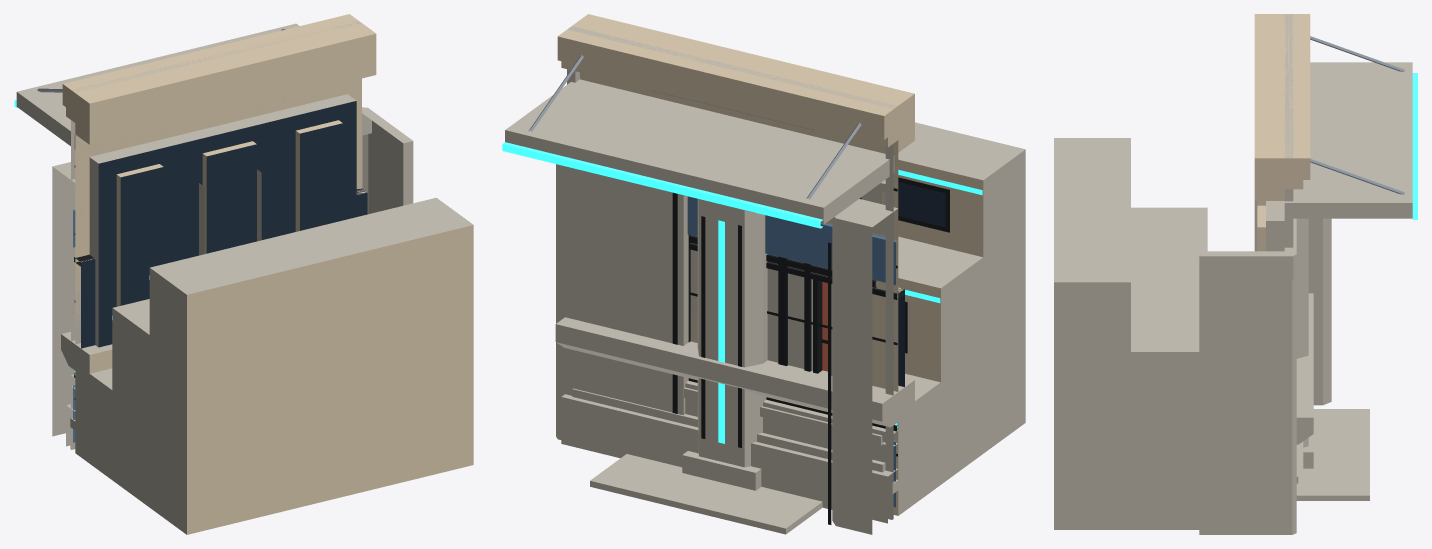
The model's file is kit_office.glb.
3 renders of one model, left to right at view 1: azimuth 30°, elevation 25°; view 2: azimuth 150°, elevation 25°; view 3: azimuth 270°, elevation 25°, orthographic. The views are drawn at different scales.
Visible parts, largest first — view 1: Office_Crown_A, Office_Podium_Base, Office_Bay_Ground_Lobby, Office_Bay_Ground_Window, Office_Corner_In, Office_Corner_Out, Office_Cornice, Office_Bay_Spandrel_Stripe, Office_Bay_Solid, Office_Pilaster; view 2: Office_Bay_Ground_Lobby, Office_Crown_A, Office_Podium_Base, Office_Corner_Out, Office_Pilaster, Office_Corner_In, Office_Cornice, Office_Bay_Spandrel_Stripe, Office_Bay_Ground_Window, Office_Bay_Solid, Office_Bay_Window; view 3: Office_Crown_A, Office_Corner_Out, Office_Bay_Ground_Lobby, Office_Podium_Base, Office_Corner_In, Office_Pilaster, Office_Cornice, Office_Bay_Ground_Window.
Part boxes in pixels (bbox=[...]): Office_Crown_A: bbox=[74, 197, 473, 534]; Office_Podium_Base: bbox=[62, 14, 376, 446]; Office_Bay_Ground_Lobby: bbox=[14, 21, 361, 449]; Office_Bay_Ground_Window: bbox=[70, 80, 361, 449]; Office_Corner_In: bbox=[52, 162, 360, 436]; Office_Corner_Out: bbox=[71, 107, 413, 301]; Office_Cornice: bbox=[61, 331, 112, 463]; Office_Bay_Spandrel_Stripe: bbox=[71, 115, 367, 442]; Office_Bay_Solid: bbox=[71, 114, 361, 446]; Office_Pilaster: bbox=[199, 169, 261, 255]; Office_Bay_Ground_Lobby: bbox=[502, 26, 898, 534]; Office_Crown_A: bbox=[895, 122, 1025, 515]; Office_Podium_Base: bbox=[557, 14, 914, 523]; Office_Corner_Out: bbox=[556, 164, 897, 439]; Office_Pilaster: bbox=[682, 195, 767, 490]; Office_Corner_In: bbox=[684, 199, 898, 534]; Office_Cornice: bbox=[555, 317, 914, 515]; Office_Bay_Spandrel_Stripe: bbox=[685, 196, 904, 507]; Office_Bay_Ground_Window: bbox=[567, 70, 898, 519]; Office_Bay_Solid: bbox=[821, 199, 897, 516]; Office_Bay_Window: bbox=[684, 213, 898, 510]; Office_Crown_A: bbox=[1054, 138, 1207, 529]; Office_Corner_Out: bbox=[1199, 218, 1296, 534]; Office_Bay_Ground_Lobby: bbox=[1266, 14, 1417, 500]; Office_Podium_Base: bbox=[1254, 14, 1310, 487]; Office_Corner_In: bbox=[1308, 218, 1331, 405]; Office_Pilaster: bbox=[1254, 201, 1313, 468]; Office_Cornice: bbox=[1296, 293, 1313, 444]; Office_Bay_Ground_Window: bbox=[1266, 190, 1298, 483].
Bounding box in the file's own units: 4.14 × 4.8 × 4.26.
